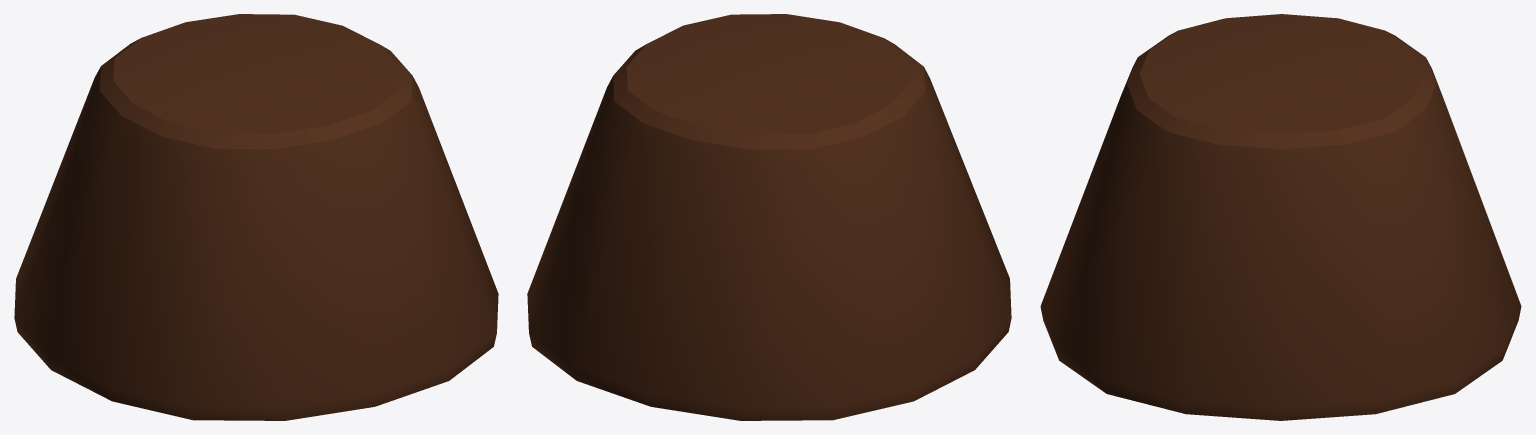
Rendered from RockPlatforms_Medium.fbx.
3 renders of one model, left to right at view 1: azimuth 30°, elevation 25°; view 2: azimuth 150°, elevation 25°; view 3: azimuth 270°, elevation 25°, orthographic.
Parts seen in each view (by area): view 1: RockPlatforms_Medium; view 2: RockPlatforms_Medium; view 3: RockPlatforms_Medium.
Boxes of the visible parts, left/top/right/bottom form: RockPlatforms_Medium: left=14, top=14, right=498, bottom=420; RockPlatforms_Medium: left=527, top=14, right=1011, bottom=420; RockPlatforms_Medium: left=1040, top=14, right=1521, bottom=420.
Size of the model in its own units: 481 by 291 by 481.
